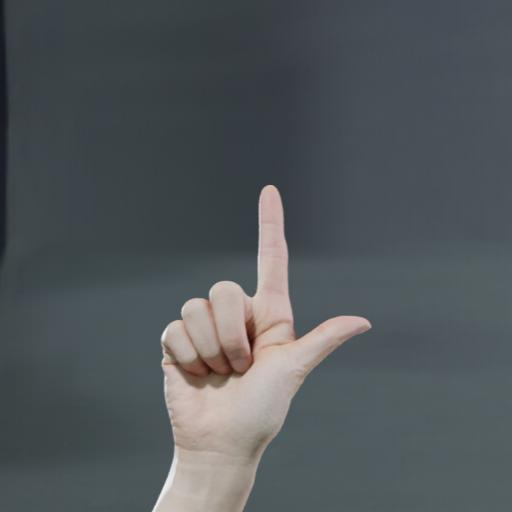L: (157, 179, 380, 452)
